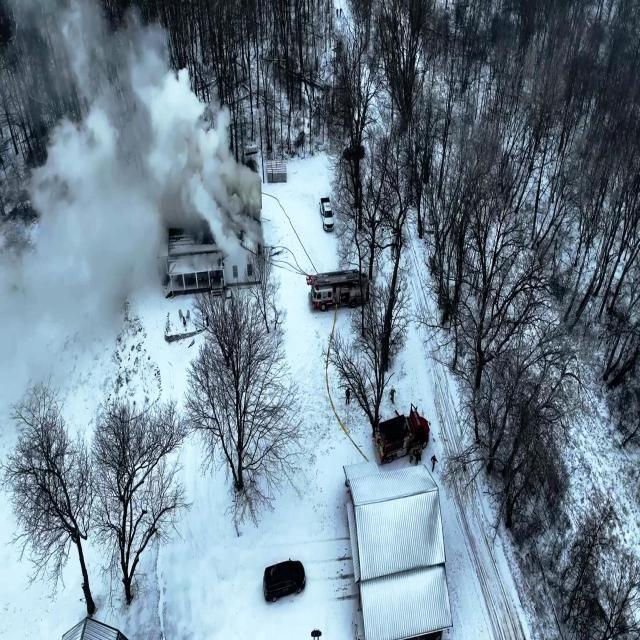Smoke: (0, 1, 252, 280)
